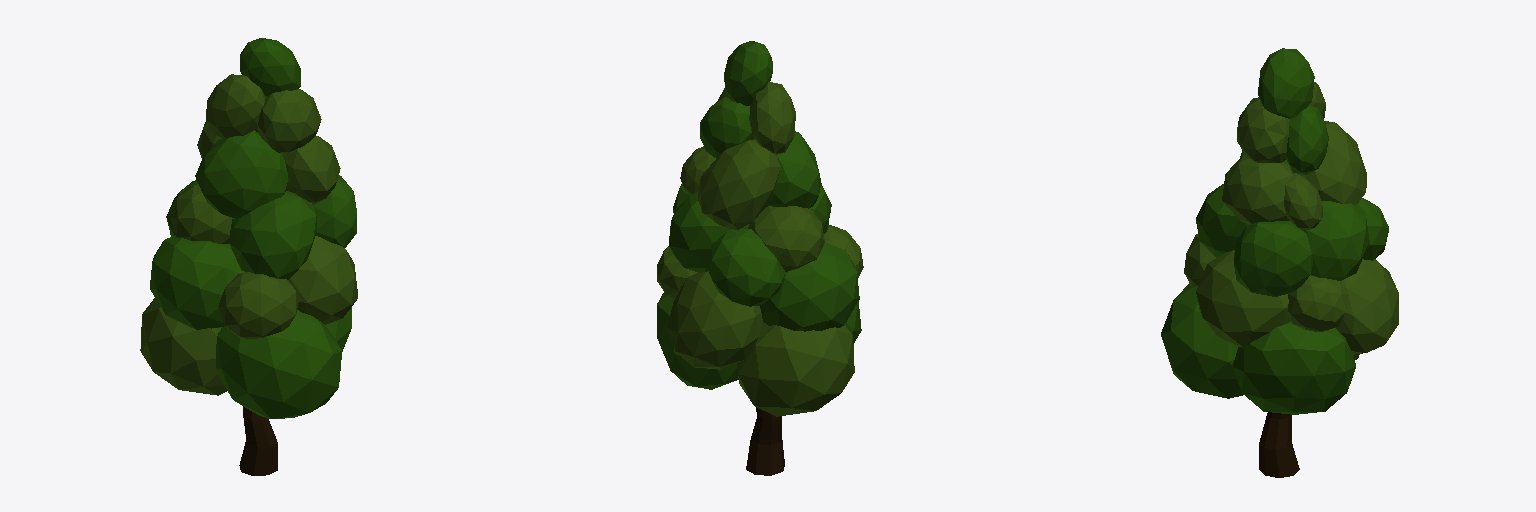
The model's file is TriPoplar.obj.
The picture shows the model from 3 angles: view 1: azimuth 30°, elevation 25°; view 2: azimuth 150°, elevation 25°; view 3: azimuth 270°, elevation 25°; orthographic projection.
Parts seen in each view (by area): view 1: Poplar_Cylinder.003; view 2: Poplar_Cylinder.003; view 3: Poplar_Cylinder.003.
Boxes of the visible parts, x1,y1,x2,y2 form: Poplar_Cylinder.003: [140, 38, 357, 475]; Poplar_Cylinder.003: [657, 41, 863, 475]; Poplar_Cylinder.003: [1161, 48, 1398, 477].
Size of the model in its own units: 2.69 by 5.82 by 2.96.